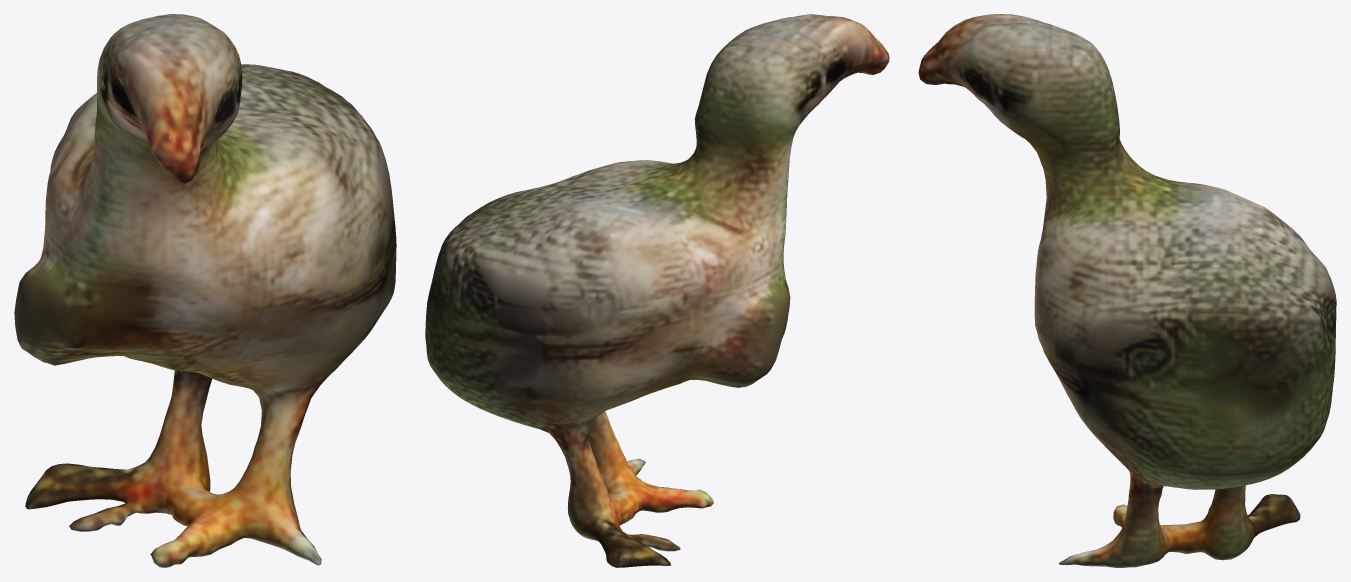
Rendered from bebe.glb.
3 renders of one model, left to right at view 1: azimuth 30°, elevation 25°; view 2: azimuth 150°, elevation 25°; view 3: azimuth 270°, elevation 25°, orthographic. The views are drawn at different scales.
Visible parts, largest first — view 1: mesh; view 2: mesh; view 3: mesh.
Boxes of the visible parts, bbox=[...] form: mesh: bbox=[14, 14, 396, 567]; mesh: bbox=[425, 14, 889, 567]; mesh: bbox=[918, 14, 1336, 567].
Size of the model in its own units: 1.07 by 1.56 by 1.23.
Materials: 1 (1 with a texture image).
